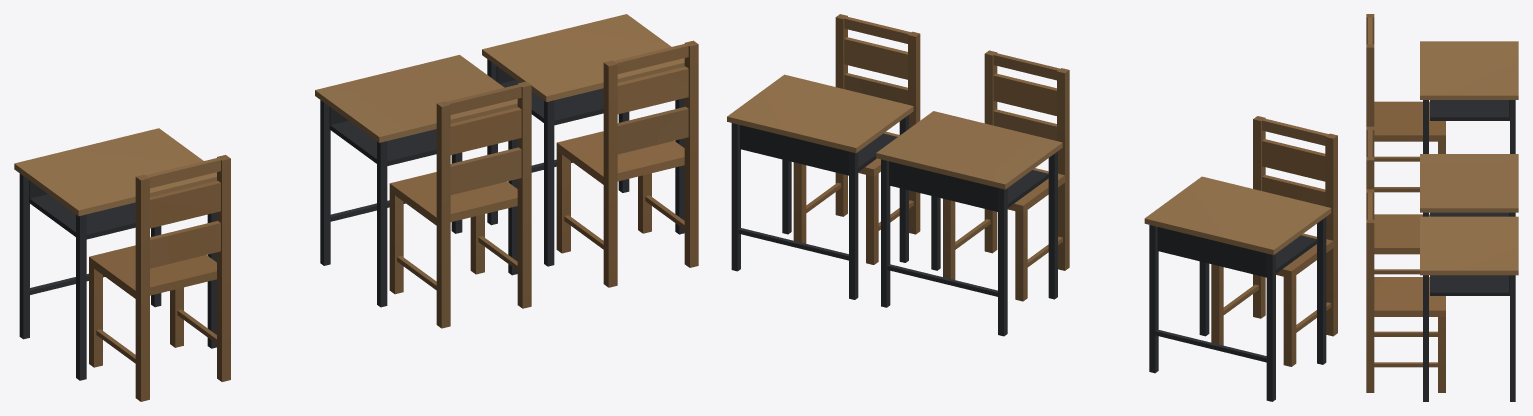
Rendered from table.school_desks_three_right.oak.glb.
The picture shows the model from 3 angles, left to right: view 1: azimuth 30°, elevation 25°; view 2: azimuth 150°, elevation 25°; view 3: azimuth 270°, elevation 25°; orthographic projection. The views are drawn at different scales.
Visible parts, largest first — view 1: table_school_desks_three_right_oak; view 2: table_school_desks_three_right_oak; view 3: table_school_desks_three_right_oak.
Part boxes in pixels (bbox=[...]): table_school_desks_three_right_oak: bbox=[14, 14, 698, 401]; table_school_desks_three_right_oak: bbox=[727, 14, 1337, 401]; table_school_desks_three_right_oak: bbox=[1366, 14, 1518, 401].
Size of what is drawn, in the model's own units: 2.75 by 0.95 by 0.772.
